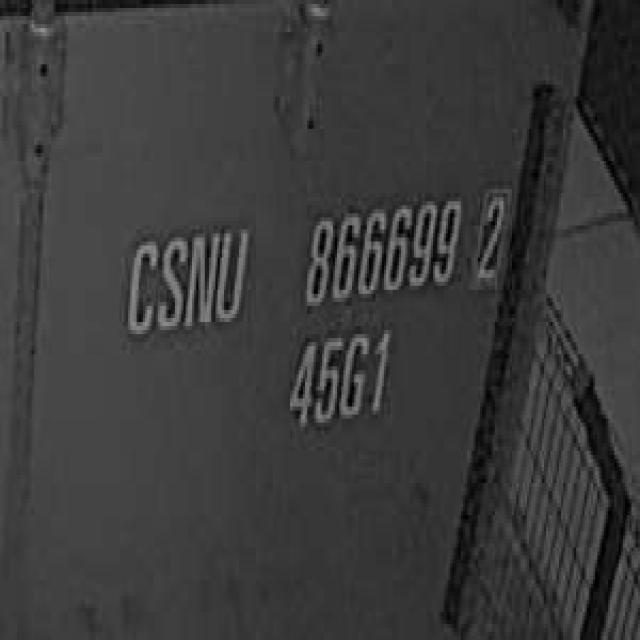dv: (471, 177, 512, 290)
owner: (117, 213, 252, 342)
serial: (299, 185, 463, 310)
size: (284, 318, 397, 435)
